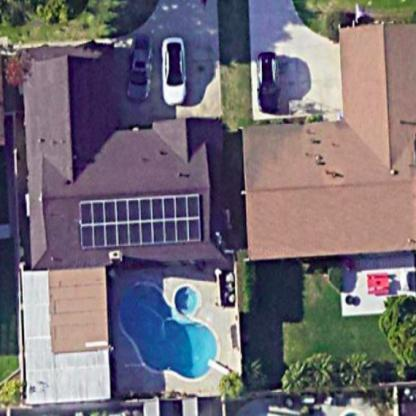car: (157, 37, 193, 108), (127, 29, 155, 102), (256, 46, 282, 119)
solar_panel: (72, 193, 209, 249)
swimming_pool: (110, 272, 229, 389)
